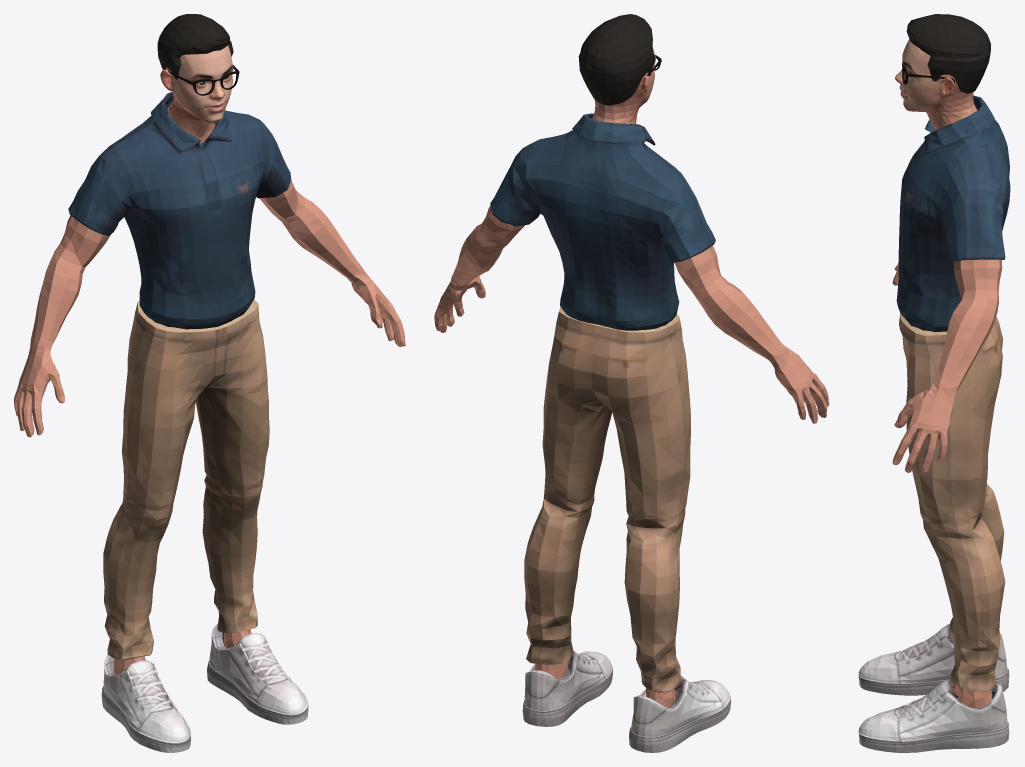
The model's file is p-casual-man-polo.glb.
3 renders of one model, left to right at view 1: azimuth 30°, elevation 25°; view 2: azimuth 150°, elevation 25°; view 3: azimuth 270°, elevation 25°, orthographic.
Visible parts, largest first — view 1: body; view 2: body; view 3: body.
Part boxes in pixels (<box>): body: <box>14,14,405,752</box>; body: <box>434,14,829,752</box>; body: <box>858,14,1010,752</box>.
Size of the model in its own units: 1.06 by 1.85 by 0.3655.
Materials: 1 (1 with a texture image).
